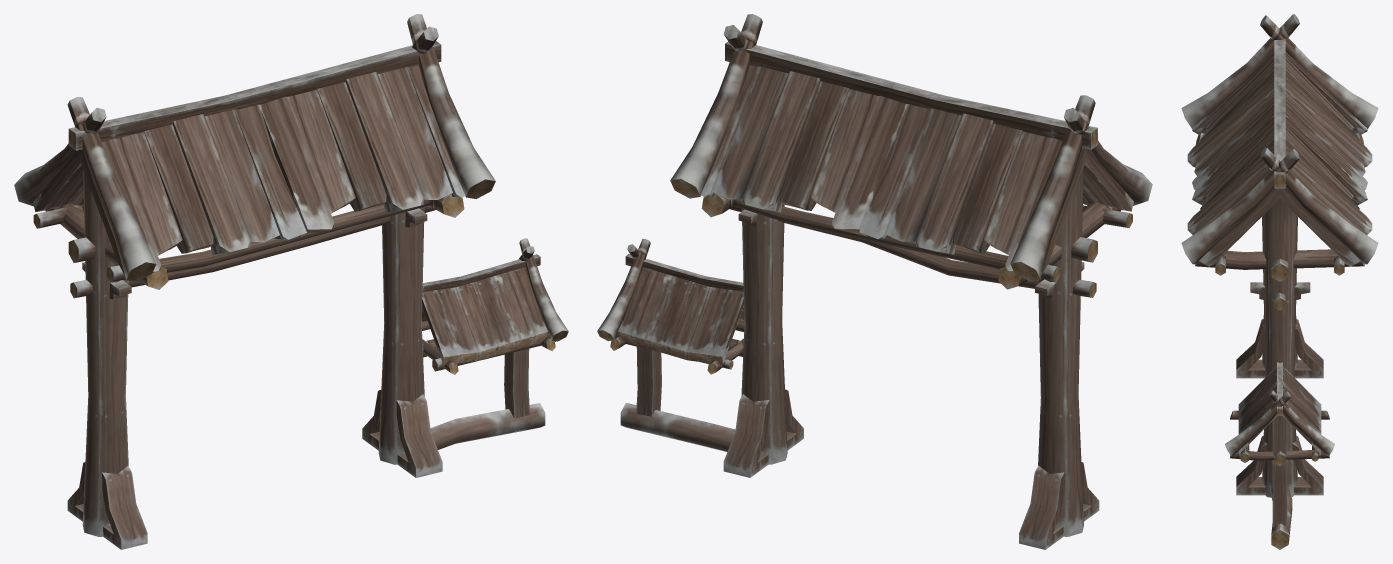
File: snow_b_r04.fbx
3 renders of one model, left to right at view 1: azimuth 30°, elevation 25°; view 2: azimuth 150°, elevation 25°; view 3: azimuth 270°, elevation 25°, orthographic. The views are drawn at different scales.
Parts seen in each view (by area): view 1: snow_b_r04; view 2: snow_b_r04; view 3: snow_b_r04.
Boxes of the visible parts, bbox=[...] form: snow_b_r04: bbox=[14, 14, 568, 549]; snow_b_r04: bbox=[597, 14, 1152, 549]; snow_b_r04: bbox=[1181, 14, 1378, 549].
Bounding box in the file's own units: 714 × 636 × 320.
